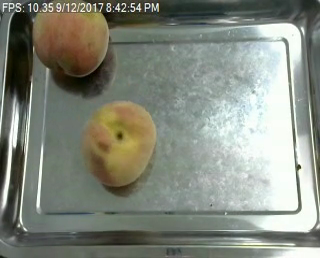Peach: (81, 100, 156, 187), (31, 1, 110, 78)
